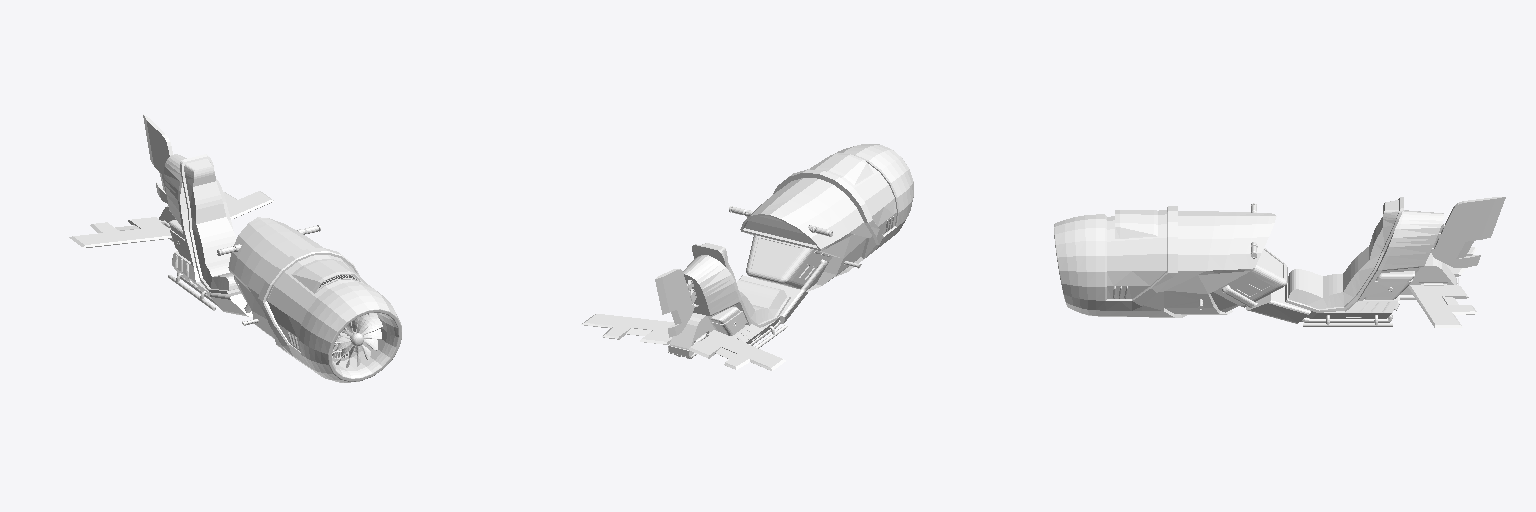
Rendered from TheRocket.obj.
3 renders of one model, left to right at view 1: azimuth 30°, elevation 25°; view 2: azimuth 150°, elevation 25°; view 3: azimuth 270°, elevation 25°, orthographic.
Visible parts, largest first — view 1: Bike_Circle.023, WingRight_Circle.003, VentMain_Circle.001, WingMain_Circle.005, WingLeft_Circle.004; view 2: Bike_Circle.023, WingRight_Circle.003, WingMain_Circle.005, WingLeft_Circle.004; view 3: Bike_Circle.023, WingMain_Circle.005, WingLeft_Circle.004.
Part boxes in pixels (bbox=[...]): Bike_Circle.023: bbox=[159, 154, 401, 382]; WingRight_Circle.003: bbox=[69, 217, 171, 247]; VentMain_Circle.001: bbox=[332, 313, 382, 367]; WingMain_Circle.005: bbox=[143, 114, 172, 203]; WingLeft_Circle.004: bbox=[224, 191, 273, 219]; Bike_Circle.023: bbox=[668, 144, 913, 358]; WingRight_Circle.003: bbox=[689, 330, 785, 370]; WingMain_Circle.005: bbox=[655, 269, 694, 337]; WingLeft_Circle.004: bbox=[581, 314, 674, 344]; Bike_Circle.023: bbox=[1054, 197, 1458, 326]; WingMain_Circle.005: bbox=[1430, 197, 1505, 267]; WingLeft_Circle.004: bbox=[1408, 284, 1477, 327].
Bounding box in the file's own units: 4.13 × 2.45 × 8.46.